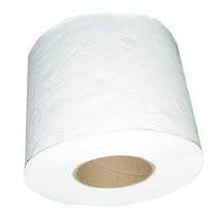tissue: (17, 7, 211, 214)
